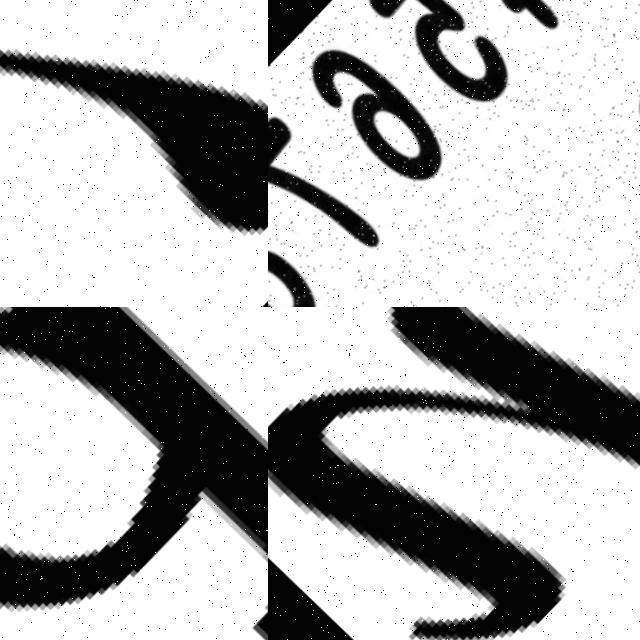0: (564, 17, 640, 295)
4: (392, 0, 620, 78)
5: (323, 0, 558, 158)
6: (268, 0, 490, 234)
7: (0, 0, 268, 307), (268, 86, 427, 307)
8: (268, 133, 357, 307)
M: (268, 307, 640, 640)
